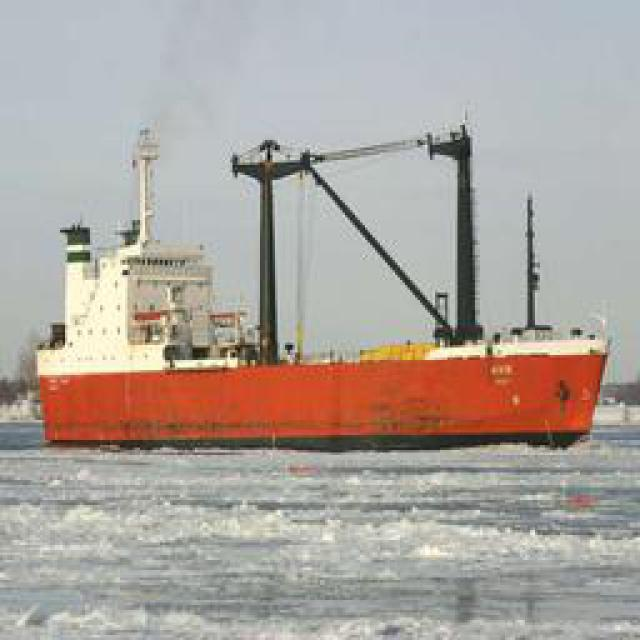Ship: (26, 104, 611, 459)
